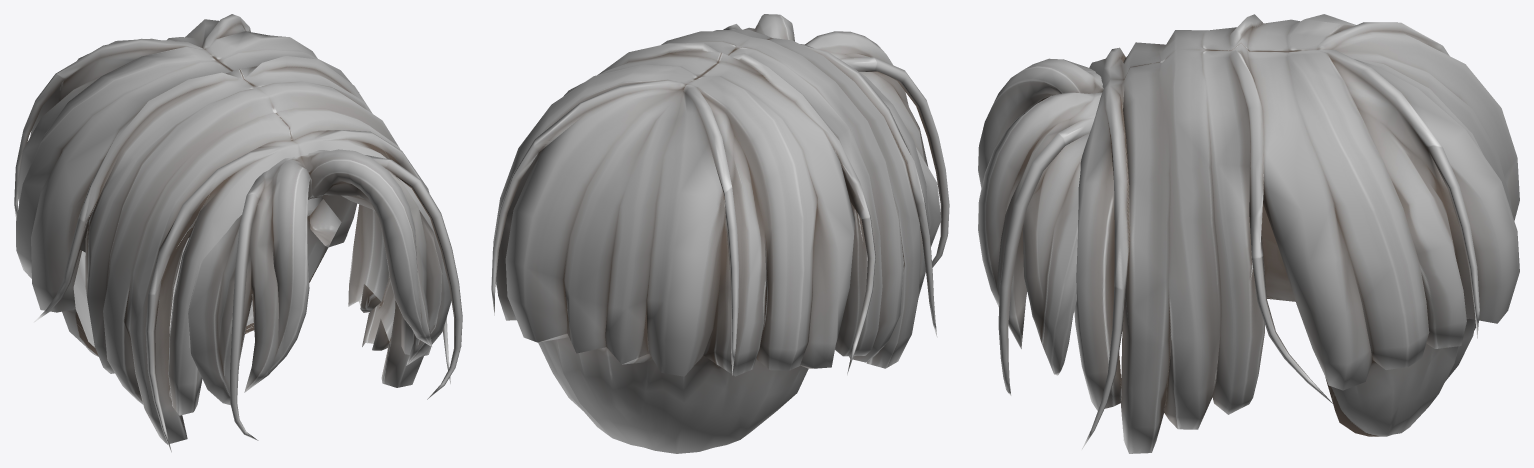
Rendered from hair5.fbx.
3 views of the same model, side by side, from view 1: azimuth 30°, elevation 25°; view 2: azimuth 150°, elevation 25°; view 3: azimuth 270°, elevation 25° (orthographic). The views are drawn at different scales.
Parts seen in each view (by area): view 1: hair5; view 2: hair5; view 3: hair5.
Boxes of the visible parts, <box> form: hair5: <box>14,14,462,452</box>; hair5: <box>491,14,949,453</box>; hair5: <box>978,14,1519,453</box>.
Bounding box in the file's own units: 18.36 × 17.88 × 23.48.
Materials: 1 (1 with a texture image).
